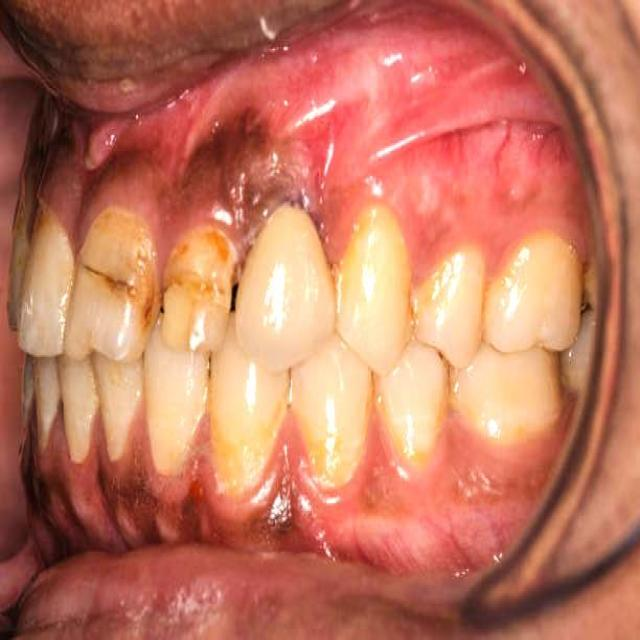caries: (70, 203, 160, 341), (159, 222, 241, 355)
